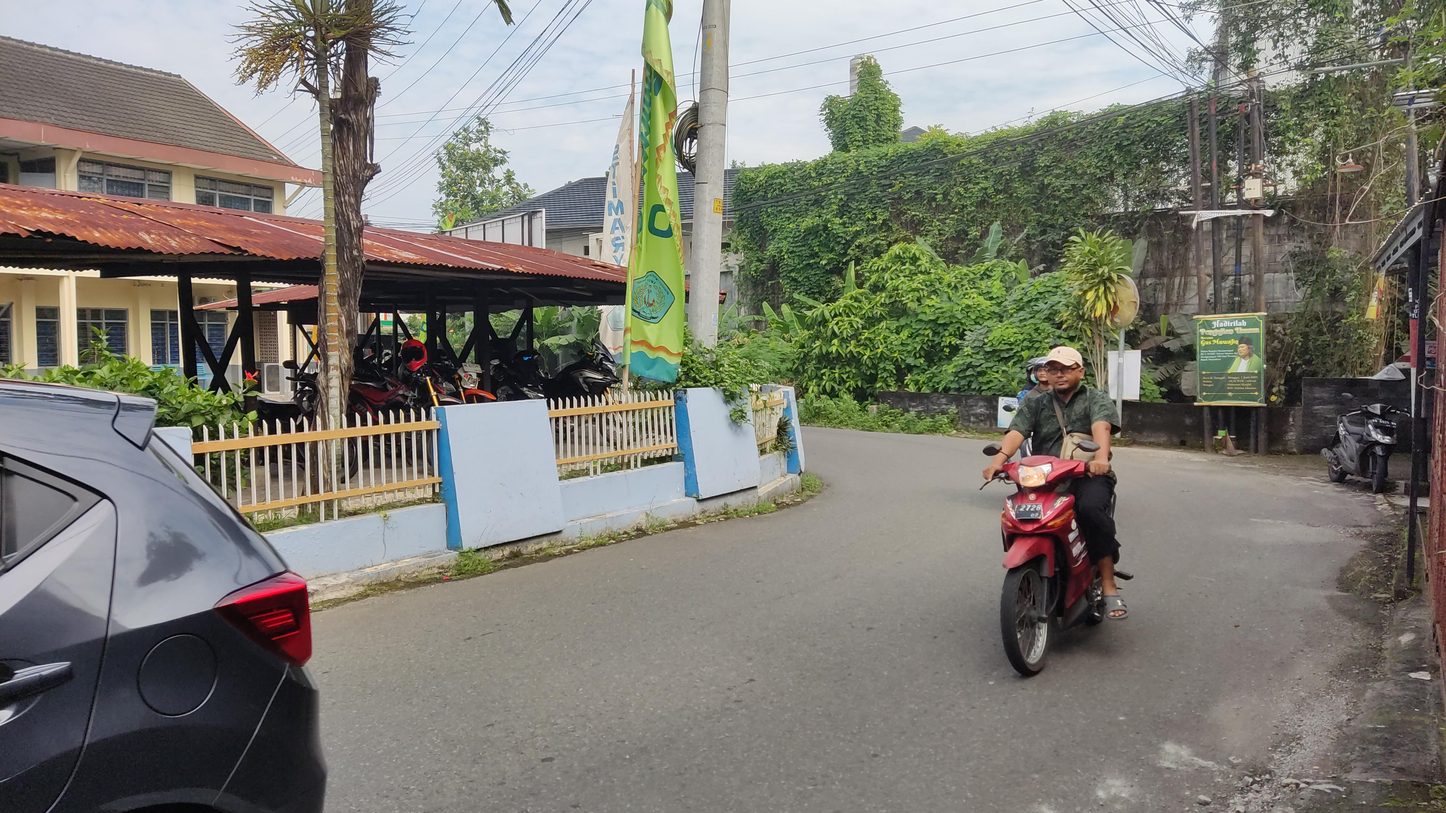nohelm: (1043, 345, 1088, 397)
riding: (978, 344, 1135, 679)
